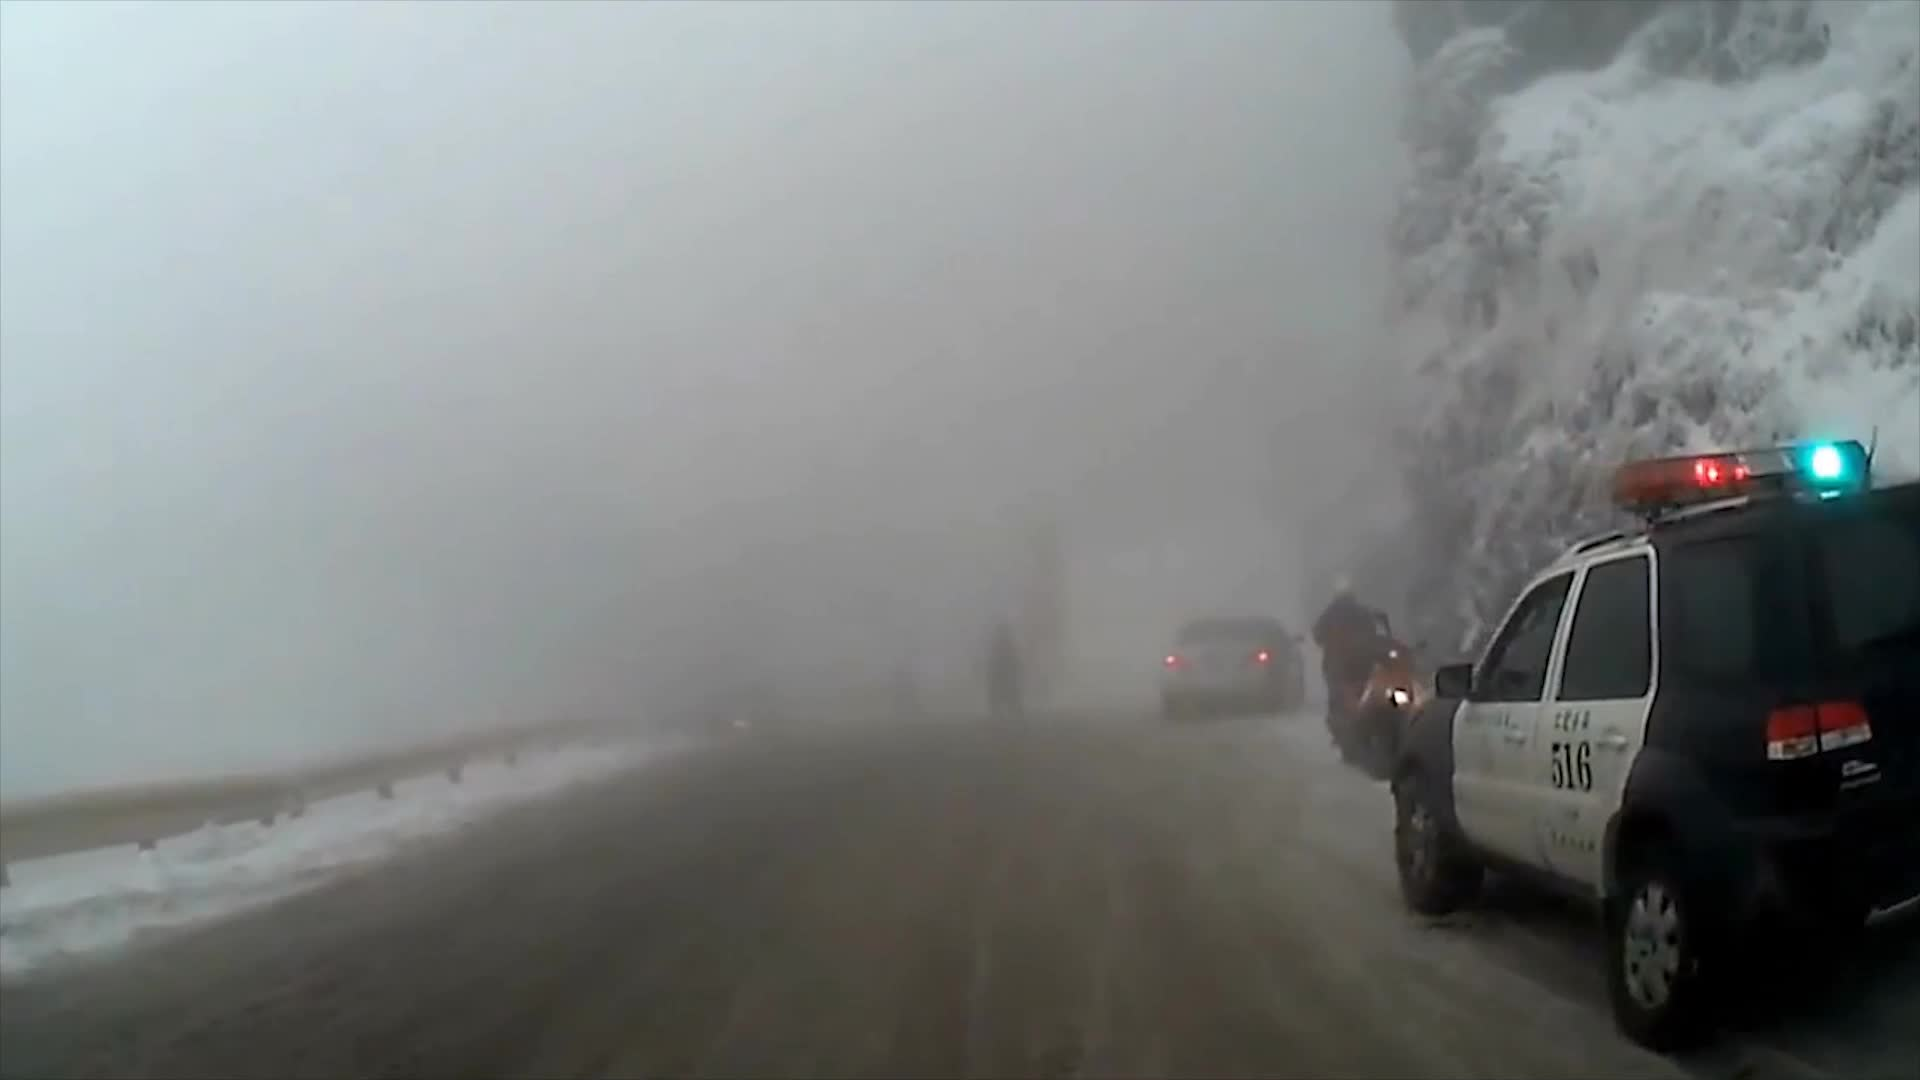pedestrian: (1317, 584, 1393, 752)
vehicle: (1388, 436, 1920, 1050), (1158, 612, 1306, 721)
